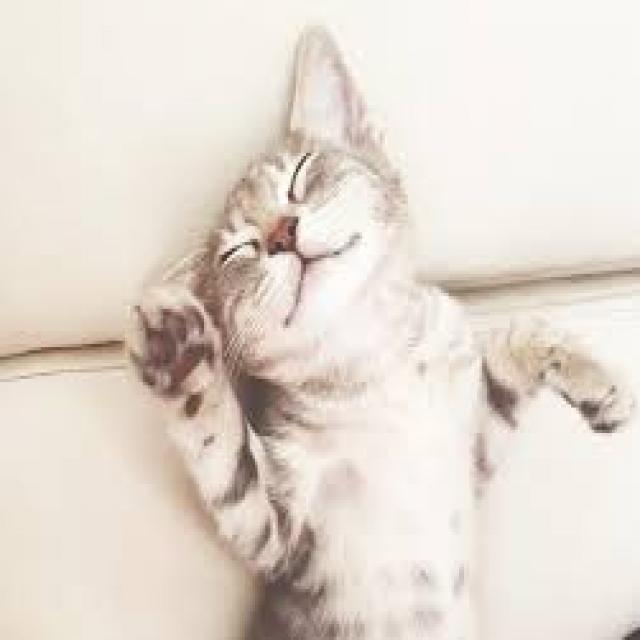Cat: (118, 18, 636, 640)
